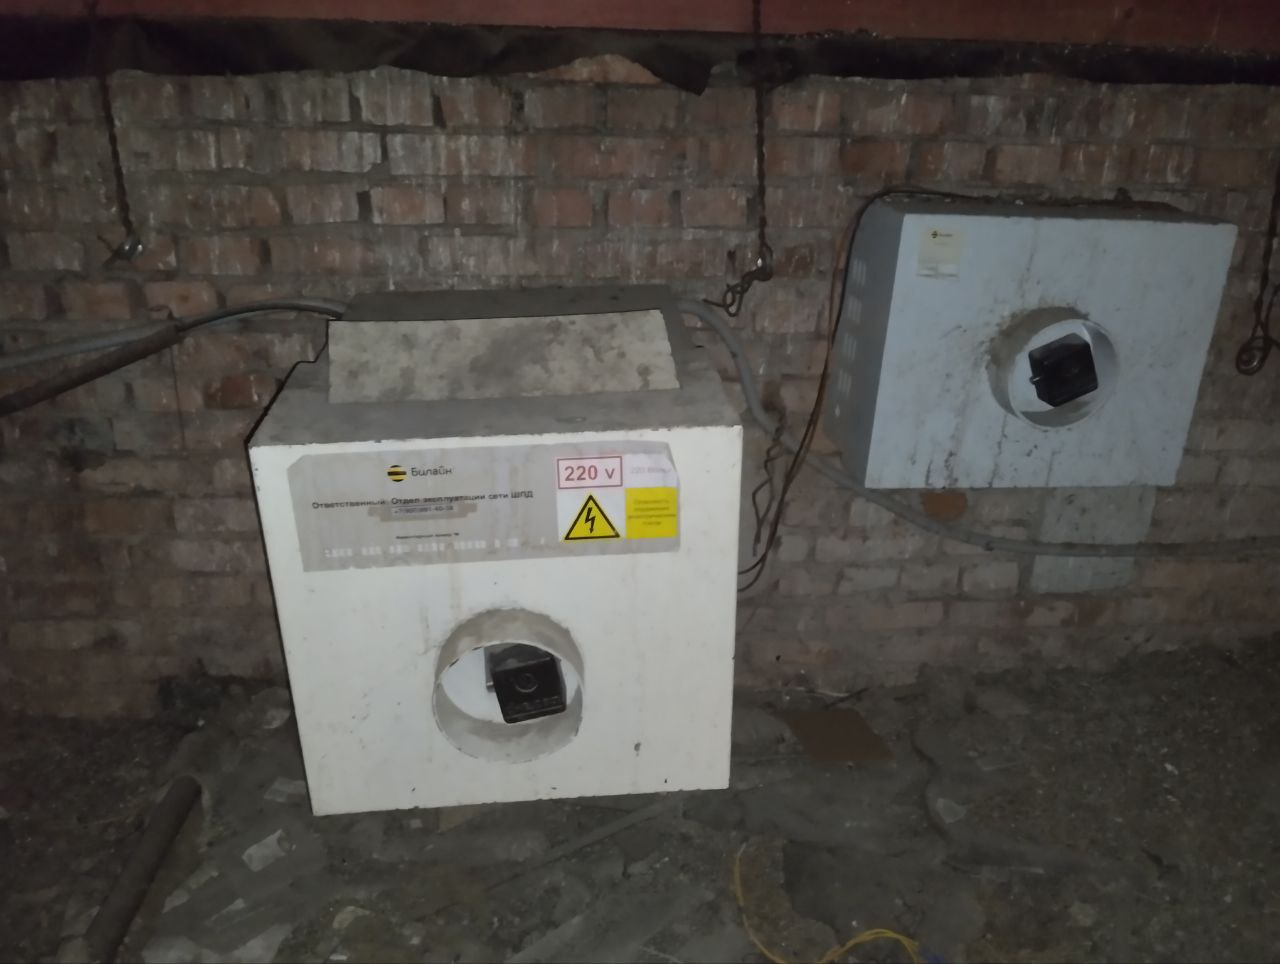shta-3: (816, 180, 1243, 491)
shta-9: (235, 319, 751, 818)
